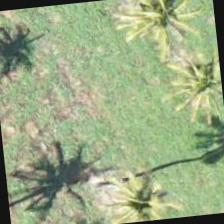Kelapa_Sawit: (152, 35, 223, 133), (113, 0, 210, 65), (121, 166, 216, 222)
